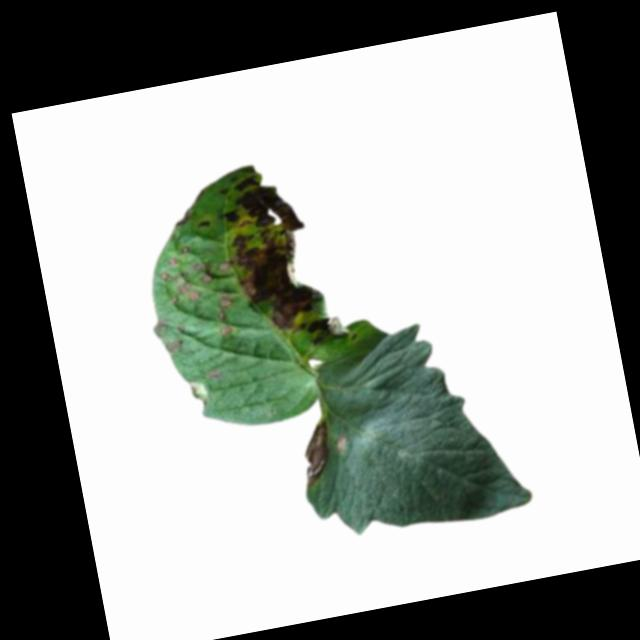Early_blight: (211, 163, 349, 355), (291, 417, 340, 488), (212, 289, 238, 338), (174, 280, 199, 306), (193, 258, 212, 287), (162, 339, 183, 357), (194, 219, 212, 232)
